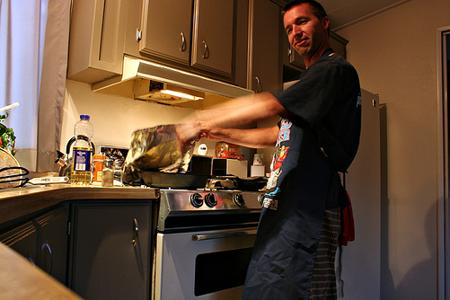person: (172, 1, 360, 298)
